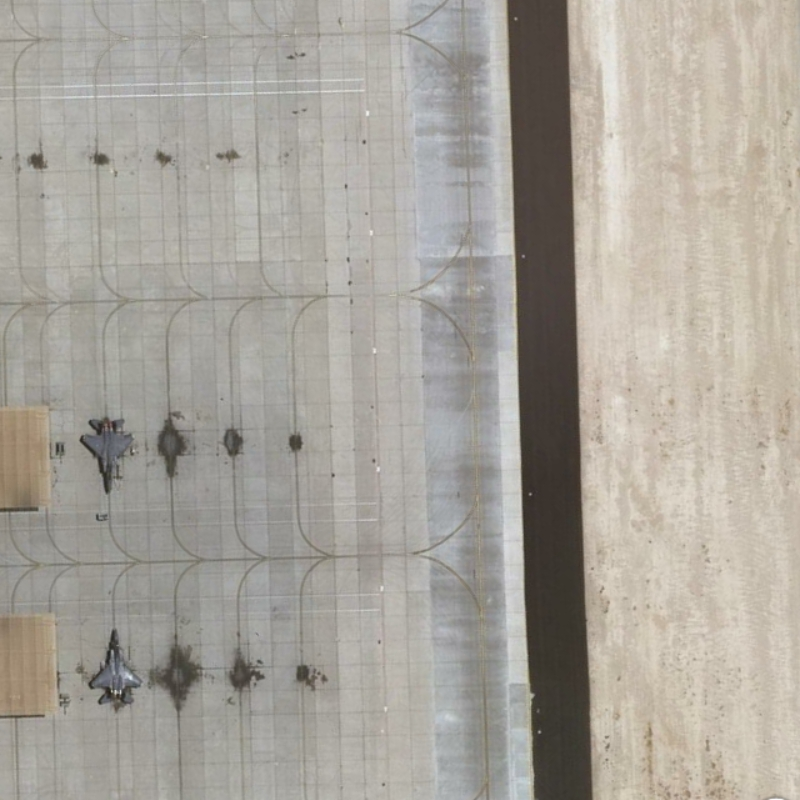A13: (76, 408, 145, 499), (84, 616, 145, 711)
